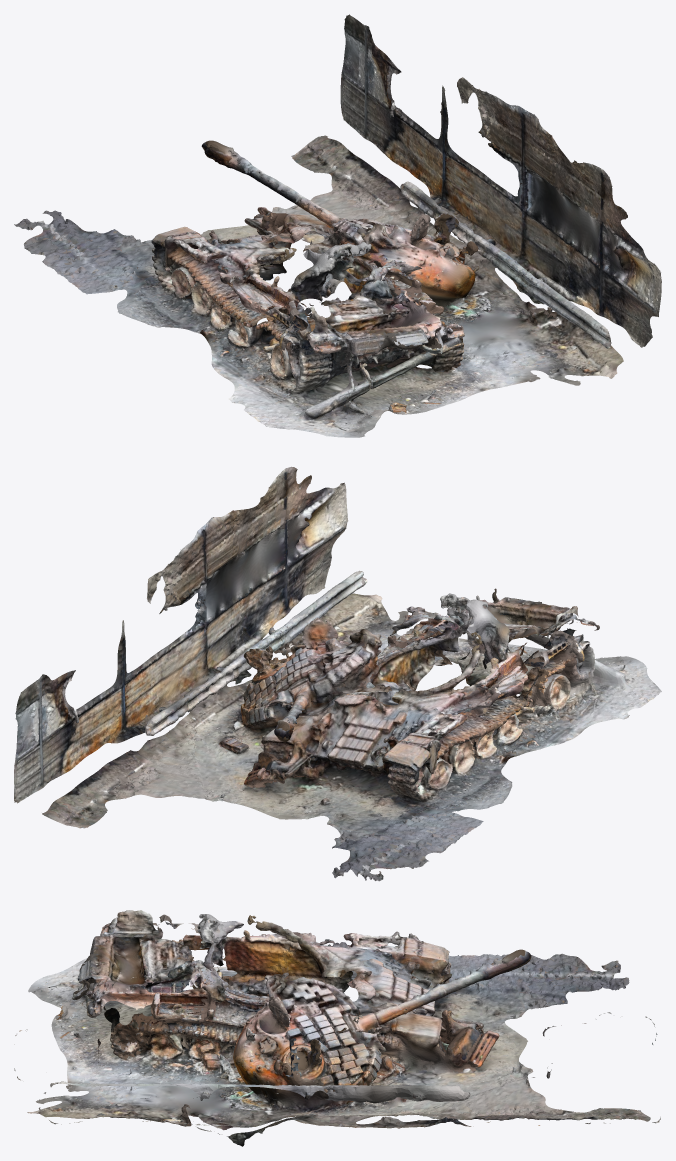
Rendered from tank.glb.
3 views of the same model, one above another, from view 1: azimuth 30°, elevation 25°; view 2: azimuth 150°, elevation 25°; view 3: azimuth 270°, elevation 25° (orthographic).
Size of the model in its own units: 7.91 by 3.53 by 12.18.
Materials: 1 (1 with a texture image).
